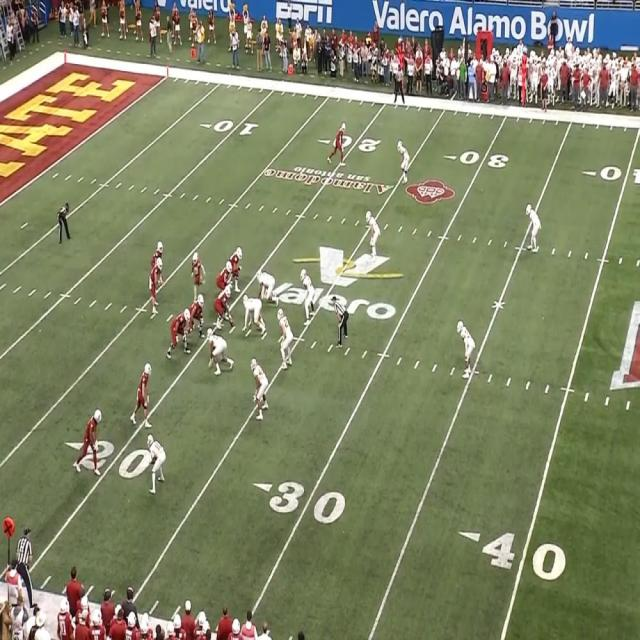center: (216, 288, 236, 324)
db: (147, 436, 166, 491), (254, 358, 270, 419), (458, 323, 475, 378), (526, 206, 541, 253), (399, 140, 411, 181)
lb: (300, 270, 316, 322), (369, 212, 384, 259), (282, 309, 294, 364)
qb: (148, 254, 162, 316)
skill: (77, 407, 100, 472), (134, 362, 151, 426), (330, 122, 345, 163), (192, 248, 202, 297), (154, 240, 164, 257)
